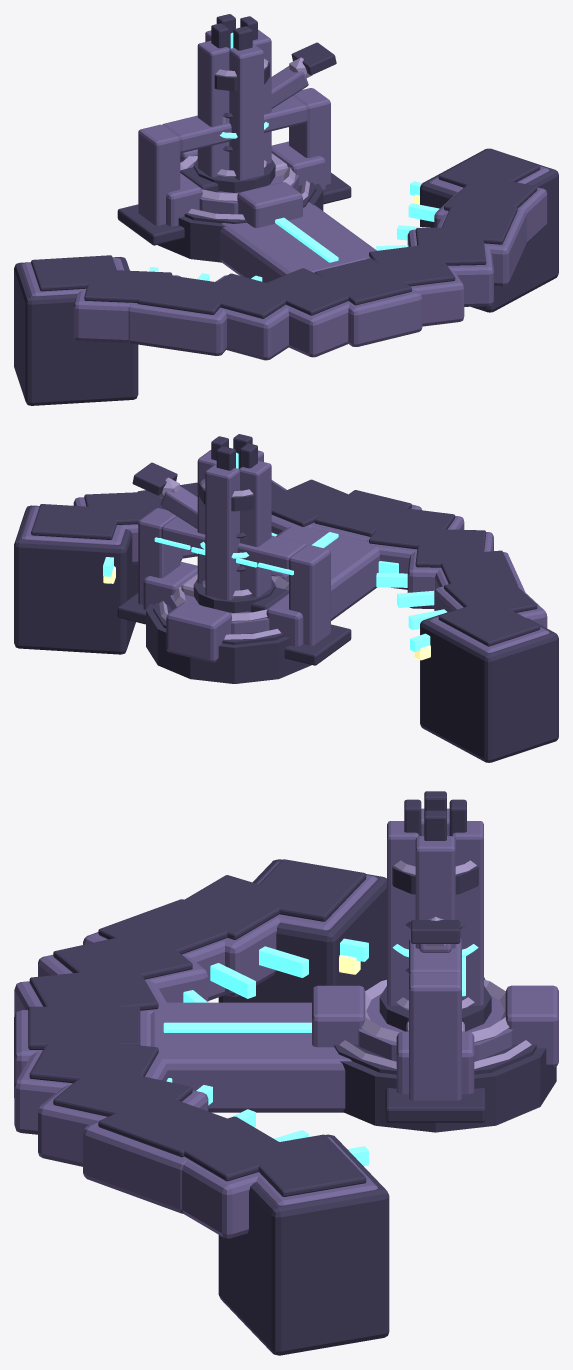
The model's file is momentum_circuit_environment_v9.glb.
The picture shows the model from 3 angles, top to bottom: view 1: azimuth 30°, elevation 25°; view 2: azimuth 150°, elevation 25°; view 3: azimuth 270°, elevation 25°; orthographic projection. The views are drawn at different scales.
Parts seen in each view (by area): view 1: EnvFamily01_RingSegment_Gunmetal, EnvFamily01_RingSegment_VioletCeramic, EnvFamily02_EnergyTower_VioletCeramic, EnvFamily06_DockingFrame_VioletCeramic, EnvFamily02_EnergyTower_Gunmetal, EnvFamily06_DockingFrame_Gunmetal, EnvFamily01_RingSegment_CyanEmission, EnvFamily05_MechanicalArm_VioletCeramic, EnvFamily02_EnergyTower_LavenderTrim, EnvFamily05_MechanicalArm_Gunmetal; view 2: EnvFamily01_RingSegment_Gunmetal, EnvFamily02_EnergyTower_VioletCeramic, EnvFamily01_RingSegment_VioletCeramic, EnvFamily06_DockingFrame_VioletCeramic, EnvFamily02_EnergyTower_Gunmetal, EnvFamily01_RingSegment_CyanEmission, EnvFamily06_DockingFrame_Gunmetal, EnvFamily05_MechanicalArm_VioletCeramic, EnvFamily02_EnergyTower_LavenderTrim, EnvFamily05_MechanicalArm_Gunmetal, EnvFamily06_DockingFrame_CyanEmission, EnvFamily01_RingSegment_LavenderTrim (+1 smaller); view 3: EnvFamily01_RingSegment_Gunmetal, EnvFamily01_RingSegment_VioletCeramic, EnvFamily02_EnergyTower_VioletCeramic, EnvFamily06_DockingFrame_VioletCeramic, EnvFamily02_EnergyTower_Gunmetal, EnvFamily01_RingSegment_CyanEmission, EnvFamily06_DockingFrame_Gunmetal, EnvFamily02_EnergyTower_LavenderTrim, EnvFamily05_MechanicalArm_Gunmetal, EnvFamily01_RingSegment_LavenderTrim.
Boxes of the visible parts, left/top/right/bottom form: EnvFamily01_RingSegment_Gunmetal: left=14, top=148, right=558, bottom=405; EnvFamily01_RingSegment_VioletCeramic: left=21, top=166, right=549, bottom=360; EnvFamily02_EnergyTower_VioletCeramic: left=166, top=30, right=325, bottom=227; EnvFamily06_DockingFrame_VioletCeramic: left=138, top=88, right=330, bottom=225; EnvFamily02_EnergyTower_Gunmetal: left=184, top=14, right=316, bottom=223; EnvFamily06_DockingFrame_Gunmetal: left=117, top=172, right=351, bottom=245; EnvFamily01_RingSegment_CyanEmission: left=149, top=181, right=439, bottom=281; EnvFamily05_MechanicalArm_VioletCeramic: left=271, top=66, right=308, bottom=108; EnvFamily02_EnergyTower_LavenderTrim: left=180, top=58, right=295, bottom=201; EnvFamily05_MechanicalArm_Gunmetal: left=291, top=42, right=336, bottom=75; EnvFamily01_RingSegment_Gunmetal: left=14, top=479, right=558, bottom=762; EnvFamily02_EnergyTower_VioletCeramic: left=143, top=450, right=303, bottom=662; EnvFamily01_RingSegment_VioletCeramic: left=21, top=480, right=549, bottom=652; EnvFamily06_DockingFrame_VioletCeramic: left=138, top=508, right=330, bottom=645; EnvFamily02_EnergyTower_Gunmetal: left=153, top=434, right=284, bottom=644; EnvFamily01_RingSegment_CyanEmission: left=103, top=532, right=446, bottom=651; EnvFamily06_DockingFrame_Gunmetal: left=117, top=593, right=351, bottom=665; EnvFamily05_MechanicalArm_VioletCeramic: left=160, top=486, right=240, bottom=589; EnvFamily02_EnergyTower_LavenderTrim: left=173, top=479, right=288, bottom=621; EnvFamily05_MechanicalArm_Gunmetal: left=132, top=462, right=177, bottom=495; EnvFamily06_DockingFrame_CyanEmission: left=154, top=537, right=293, bottom=575; EnvFamily01_RingSegment_LavenderTrim: left=159, top=601, right=280, bottom=639; EnvFamily01_RingSegment_Gunmetal: left=28, top=859, right=556, bottom=1355; EnvFamily01_RingSegment_VioletCeramic: left=14, top=861, right=377, bottom=1238; EnvFamily02_EnergyTower_VioletCeramic: left=312, top=808, right=558, bottom=1094; EnvFamily06_DockingFrame_VioletCeramic: left=409, top=938, right=461, bottom=1100; EnvFamily02_EnergyTower_Gunmetal: left=334, top=791, right=536, bottom=1074; EnvFamily01_RingSegment_CyanEmission: left=163, top=938, right=368, bottom=1166; EnvFamily06_DockingFrame_Gunmetal: left=385, top=977, right=485, bottom=1122; EnvFamily02_EnergyTower_LavenderTrim: left=361, top=860, right=509, bottom=1042; EnvFamily05_MechanicalArm_Gunmetal: left=411, top=920, right=460, bottom=943; EnvFamily01_RingSegment_LavenderTrim: left=339, top=1040, right=531, bottom=1068.
Bounding box in the file's own units: 17.65 × 8.78 × 11.48.
